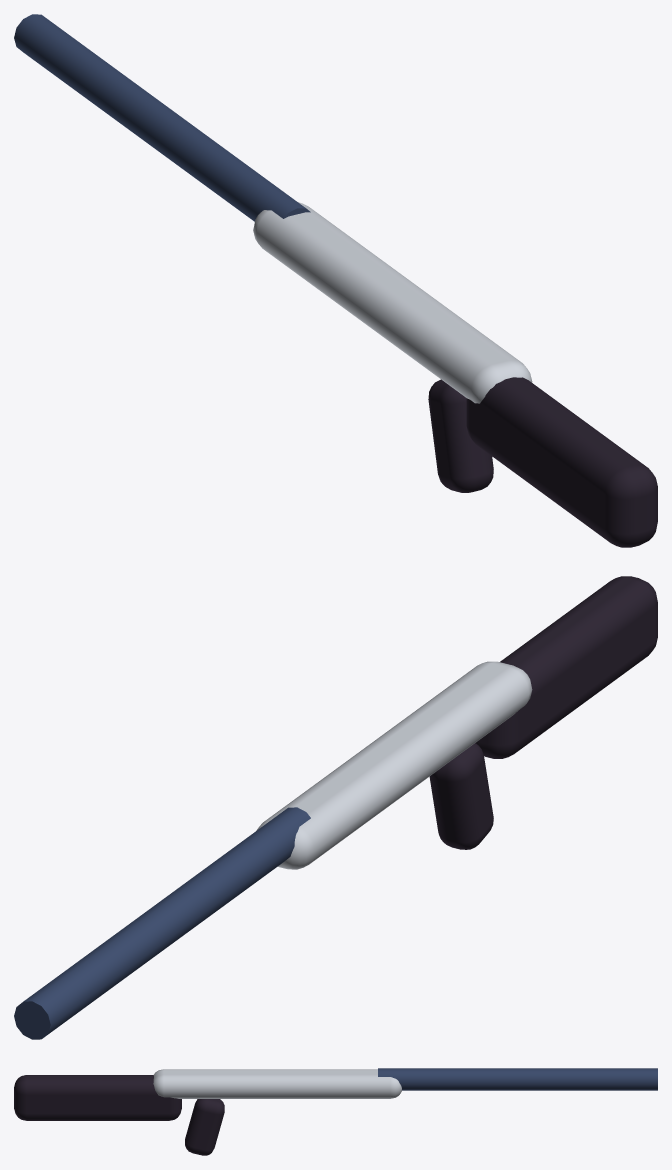
Rendered from placeholder_boom_mic.glb.
3 renders of one model, top to bottom at view 1: azimuth 30°, elevation 25°; view 2: azimuth 150°, elevation 25°; view 3: azimuth 270°, elevation 25°, orthographic. The views are drawn at different scales.
Visible parts, largest first — view 1: placeholder_boom_mic, body; view 2: placeholder_boom_mic, body; view 3: placeholder_boom_mic, body.
Part boxes in pixels (x1,y1,x2,y2): placeholder_boom_mic: (14, 14, 657, 547); body: (253, 202, 532, 403); placeholder_boom_mic: (14, 576, 657, 1039); body: (256, 661, 532, 869); placeholder_boom_mic: (14, 1068, 657, 1155); body: (153, 1069, 401, 1098).
Bounding box in the file's own units: 0.07 × 0.1828 × 1.27.
